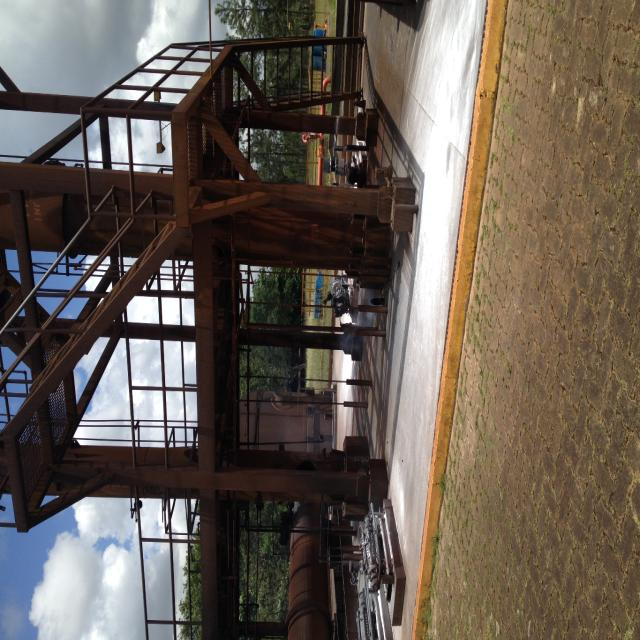no_fire: (6, 42, 622, 640)
